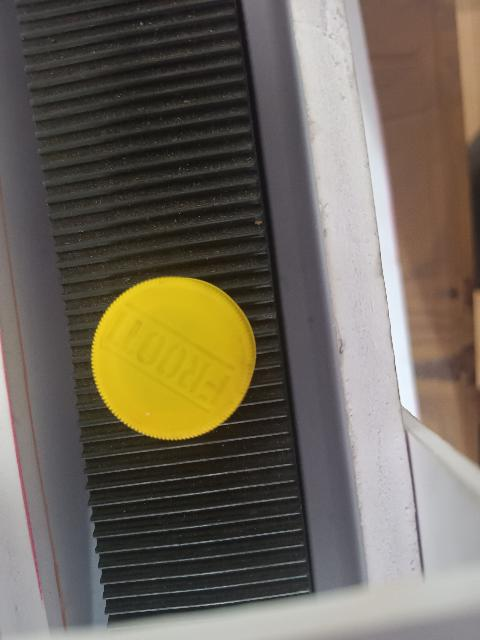bottlecap: (92, 272, 257, 442)
